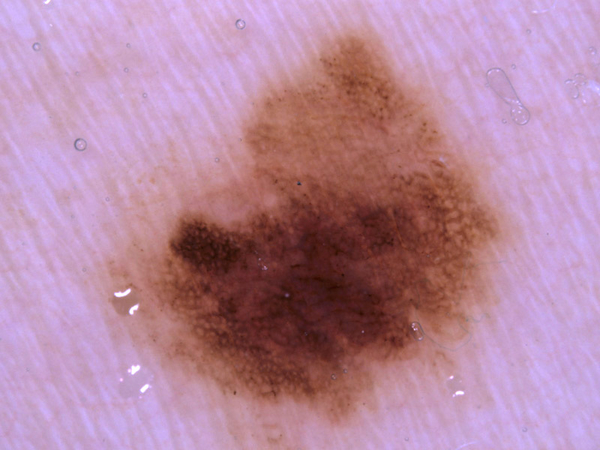Detected Lesion: (130, 28, 510, 424)
